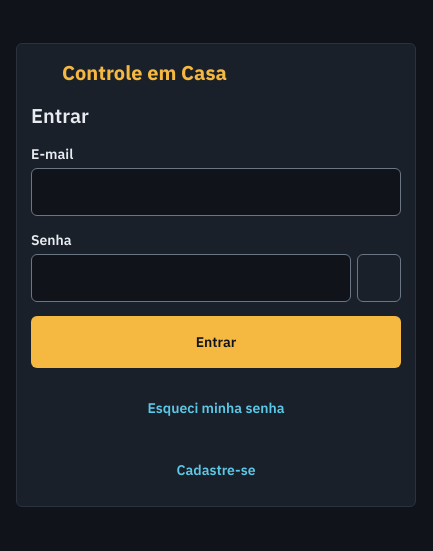
Test: T01 Entrar › sem rede: "Sem conexão." no alerta
Type "leandro@exemplo.com" into the field labelled "E-mail". click: (216, 192)
box: [31,168,401,216]
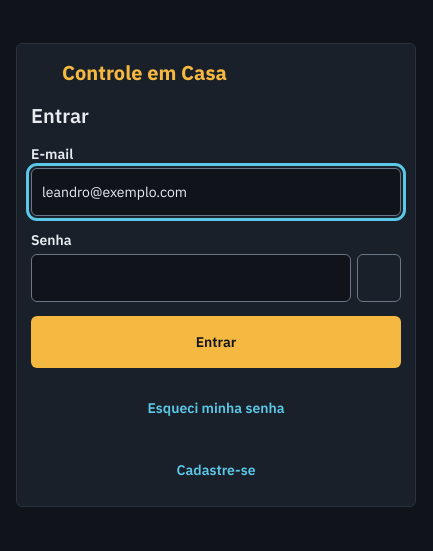
Type "senha-correta-123" into the password field labelled "Senha". click: (191, 278)
box: [31,254,351,302]
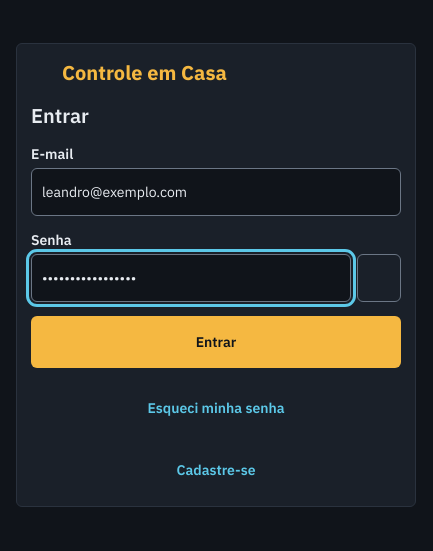
Click the button "Entrar". click: (216, 342)
box: [31,316,401,368]
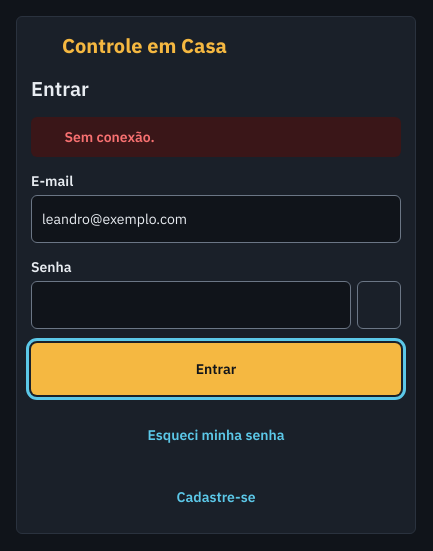
Check: the message reads "Sem conexão.", box [64,128,155,146]
